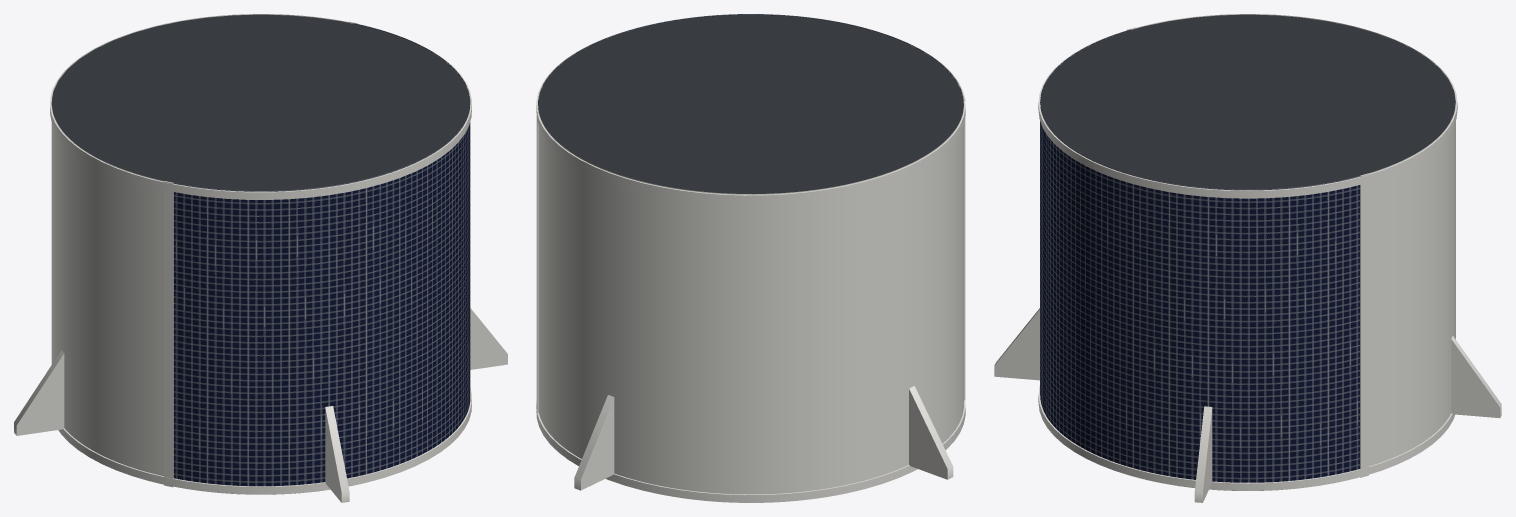
The model's file is dragon_trunk.glb.
3 views of the same model, side by side, from view 1: azimuth 30°, elevation 25°; view 2: azimuth 150°, elevation 25°; view 3: azimuth 270°, elevation 25° (orthographic). The views are drawn at different scales.
Visible parts, largest first — view 1: body; view 2: body; view 3: body.
Part boxes in pixels (<box>): body: <box>14,14,507,502</box>; body: <box>536,14,965,502</box>; body: <box>994,14,1501,502</box>.
Size of the model in its own units: 3.05 by 2 by 3.05.
Materials: 4 (1 with a texture image).
